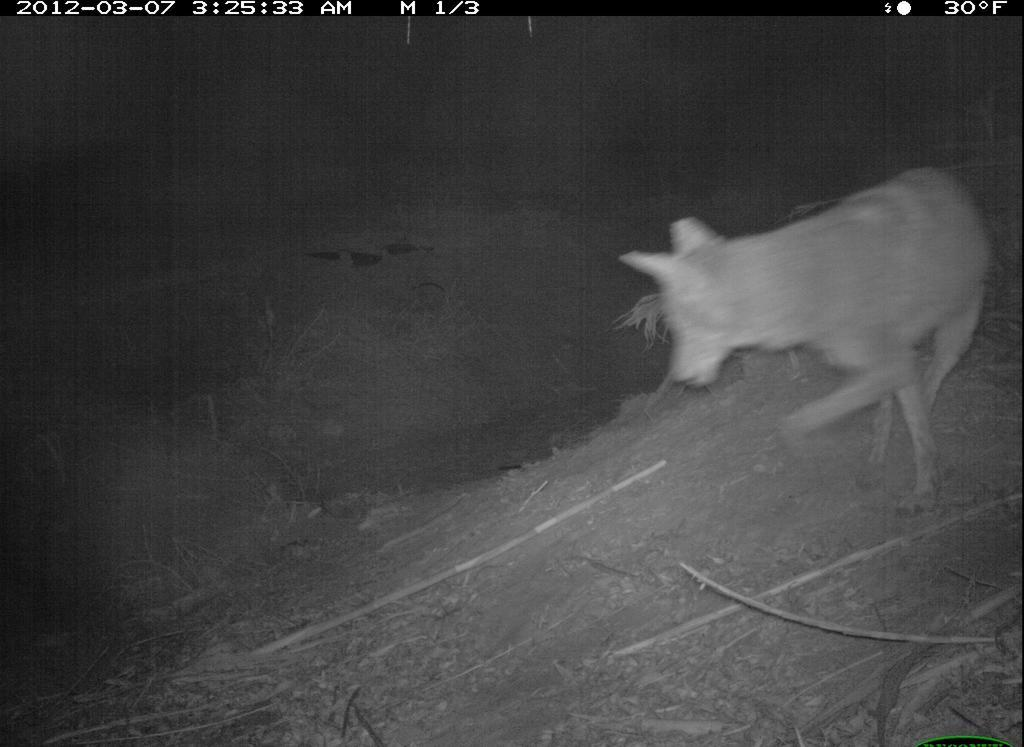coyote: (620, 161, 1001, 514)
